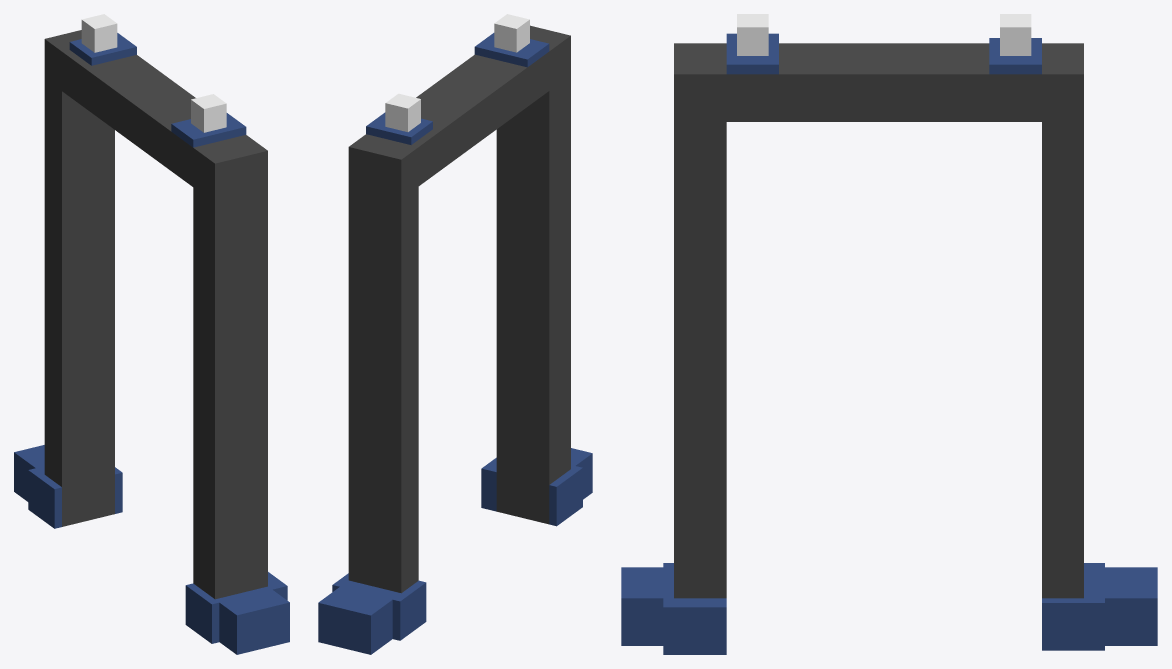
File: portal.obj
3 renders of one model, left to right at view 1: azimuth 30°, elevation 25°; view 2: azimuth 150°, elevation 25°; view 3: azimuth 270°, elevation 25°, orthographic. The views are drawn at different scales.
Size of the model in its own units: 1 by 6.4 by 5.1.
1 material, 1 textured.
